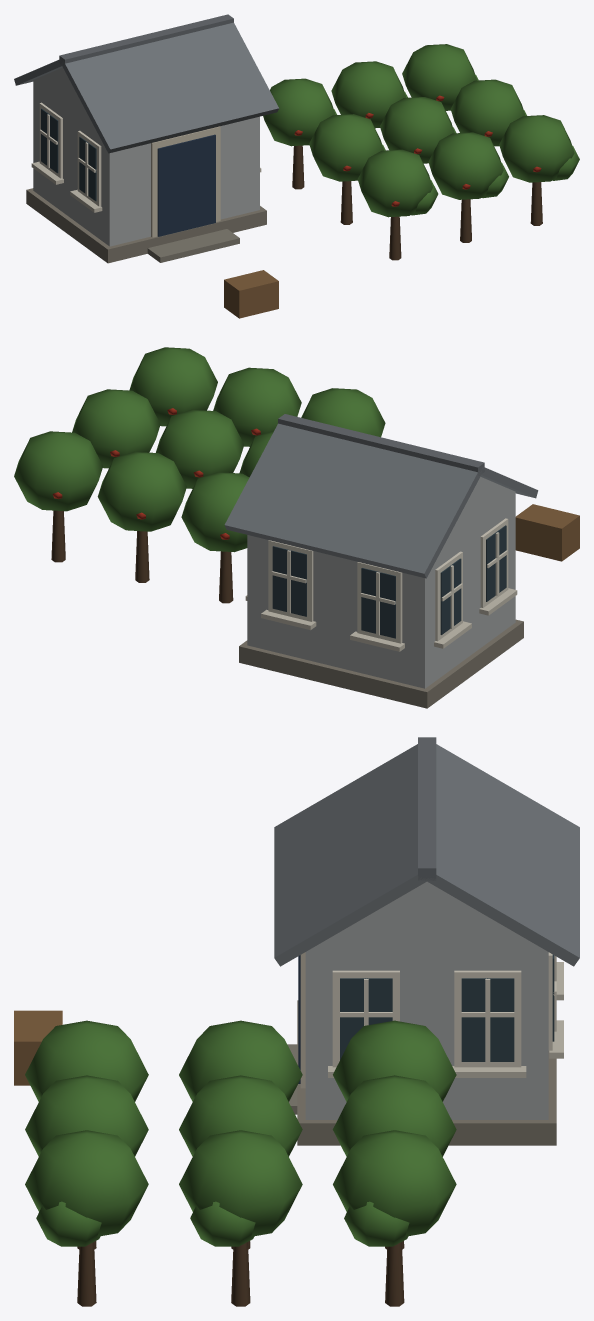
The model's file is procedural_orchard@6.glb.
3 views of the same model, one above another, from view 1: azimuth 30°, elevation 25°; view 2: azimuth 150°, elevation 25°; view 3: azimuth 270°, elevation 25° (orthographic). The views are drawn at different scales.
Visible parts, largest first — view 1: part_0; view 2: part_0; view 3: part_0.
Part boxes in pixels (<box>): part_0: <box>14,14,579,318</box>; part_0: <box>14,347,579,708</box>; part_0: <box>14,737,579,1306</box>.
Size of the model in its own units: 9.07 by 3.83 by 6.99.
